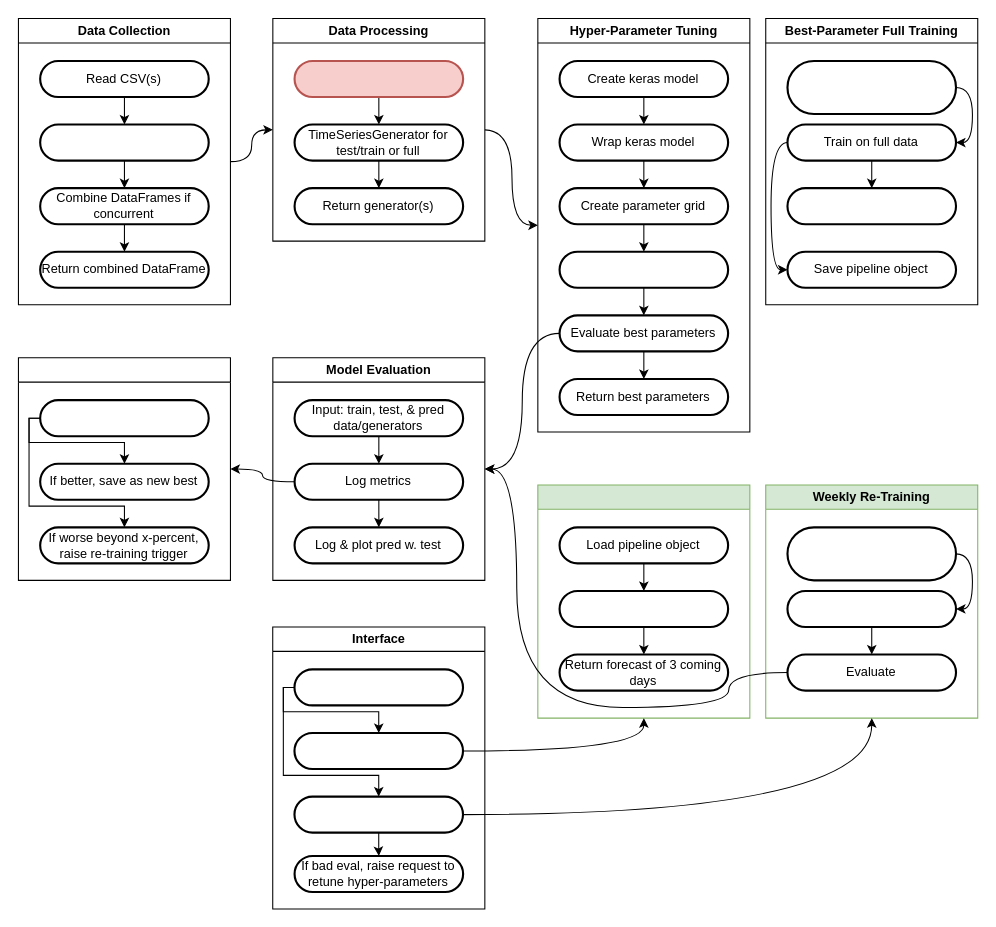
This 996x927 diagram has some shape labels left out. Here are the shapes that lost their labels. From the top down, the box of each, then its label:
(293, 59, 464, 98): Scale test/train or full data
(786, 59, 957, 114): Use best parameters to create pipeline (scaling, generator, keras)
(39, 123, 209, 161): Impute missing values
(786, 187, 957, 225): Forecast 3 coming days
(558, 250, 729, 288): GridSearchCV
(39, 399, 209, 437): Compare with best saved metrics
(17, 357, 230, 580): Metrics Comparison
(786, 526, 957, 581): Use best parameters to create new pipeline (scaling, generator, keras)
(537, 484, 750, 718): Daily Training
(558, 589, 729, 628): Train on new data
(786, 589, 957, 628): Train on split train/test and all new data
(293, 668, 464, 706): Input: historical data of past day
(293, 731, 464, 770): Daily, train model on new data
(293, 795, 464, 833): Weekly (monday?), re-train with evaluation
